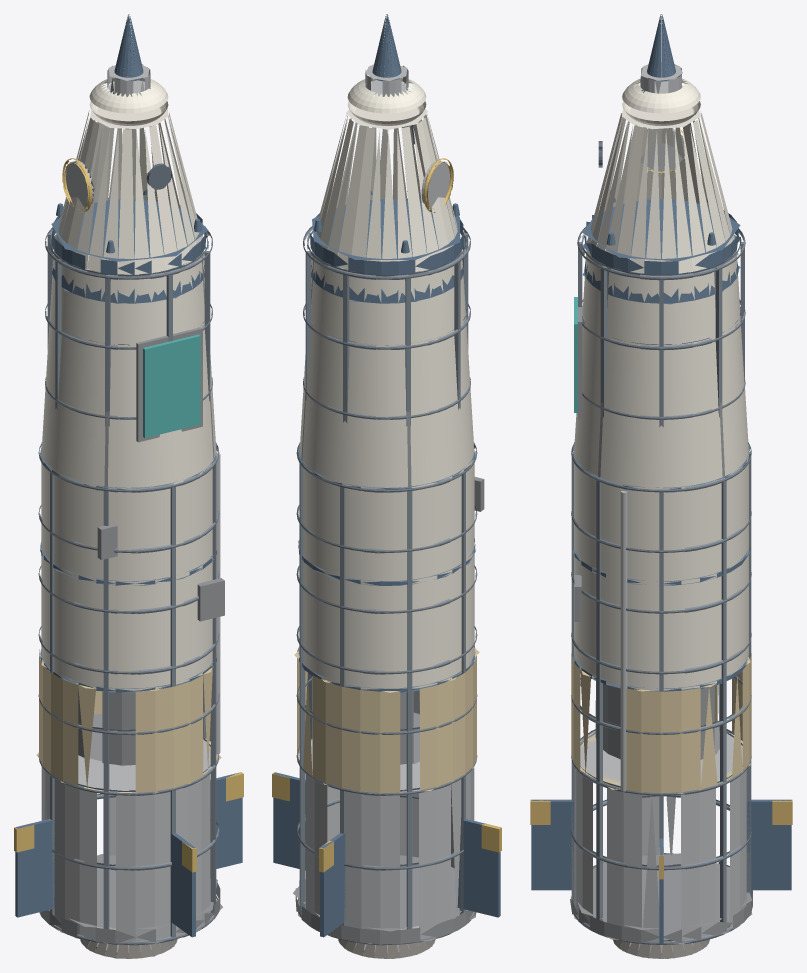
The model's file is rocket-lod1.glb.
3 views of the same model, side by side, from view 1: azimuth 30°, elevation 25°; view 2: azimuth 150°, elevation 25°; view 3: azimuth 270°, elevation 25° (orthographic).
Parts seen in each view (by area): view 1: Propulsion, Skin_Lower_P1, Capsule, Skin_Upper_P1, BodyLowerInsul, Skin_Lower_P4, Skin_Upper_P4, BayPanel, CapsuleBase, Fin.002, Frame_TankLower, PropSkirt (+35 smaller); view 2: Skin_Lower_P3, Skin_Upper_P3, Propulsion, BodyLowerInsul, Capsule, Skin_Lower_P4, Skin_Upper_P4, PropSkirt, CapsuleBase, Fin.002, Fin, CapsuleDome (+31 smaller); view 3: Skin_Upper_P2, Skin_Lower_P2, Propulsion, Capsule, BodyLowerInsul, PropSkirt, Skin_Lower_P3, Skin_Upper_P3, Skin_Upper_P1, Skin_Lower_P1, CapsuleBase, Fin.001 (+32 smaller).
Part boxes in pixels (box(x1,y1,x2,y2)): Propulsion: box(41, 738, 212, 942); Skin_Lower_P1: box(108, 468, 212, 690); Capsule: box(55, 107, 202, 274); Skin_Upper_P1: box(108, 255, 213, 489); BodyLowerInsul: box(36, 649, 221, 793); Skin_Lower_P4: box(41, 458, 103, 687); Skin_Upper_P4: box(41, 250, 105, 487); BayPanel: box(143, 334, 200, 437); CapsuleBase: box(51, 197, 208, 274); Fin.002: box(15, 819, 54, 917); Frame_TankLower: box(78, 688, 135, 766); PropSkirt: box(39, 854, 222, 943); Skin_Lower_P3: box(303, 468, 407, 689); Skin_Upper_P3: box(302, 256, 407, 488); Propulsion: box(302, 739, 474, 939); BodyLowerInsul: box(294, 646, 479, 793); Capsule: box(313, 108, 460, 271); Skin_Lower_P4: box(412, 459, 474, 688); Skin_Upper_P4: box(410, 250, 474, 487); PropSkirt: box(293, 855, 476, 944); CapsuleBase: box(310, 198, 463, 274); Fin.002: box(457, 819, 500, 917); Fin: box(273, 772, 305, 870); CapsuleDome: box(347, 77, 426, 125); Skin_Upper_P2: box(600, 268, 722, 489); Skin_Lower_P2: box(601, 483, 721, 690); Propulsion: box(574, 732, 746, 942); Capsule: box(587, 107, 734, 273); BodyLowerInsul: box(571, 653, 751, 793); PropSkirt: box(570, 853, 752, 943); Skin_Lower_P3: box(726, 454, 748, 676); Skin_Upper_P3: box(722, 251, 748, 475); Skin_Upper_P1: box(574, 250, 600, 475); Skin_Lower_P1: box(574, 454, 596, 677); CapsuleBase: box(582, 199, 740, 274); Fin.001: box(746, 799, 791, 890).
Size of the model in its own units: 5.1 by 19.81 by 5.1.
